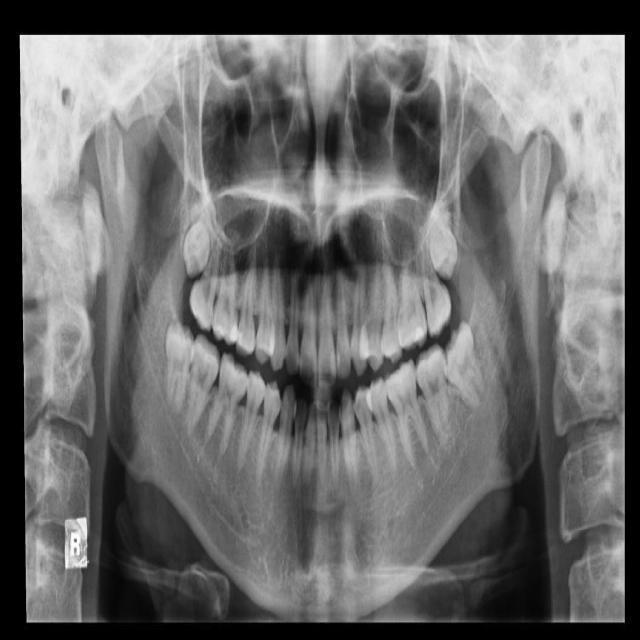impacted tooth: (441, 324, 491, 407), (184, 189, 216, 276), (165, 322, 191, 417), (430, 190, 457, 278)
